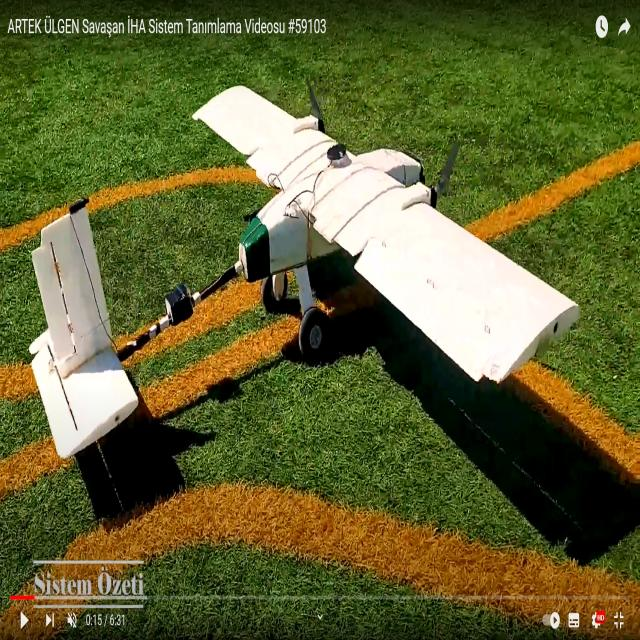iha: (27, 84, 583, 462)
